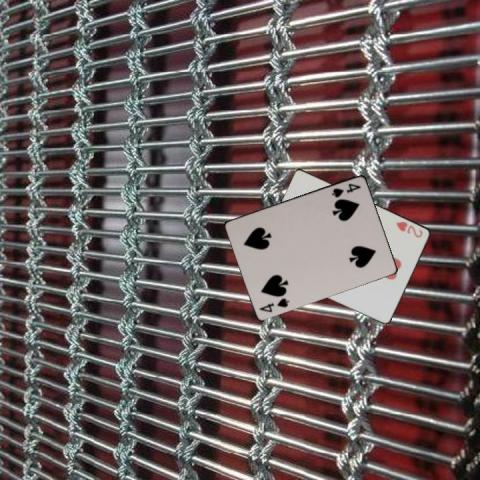2h: (393, 218, 424, 239)
4s: (329, 180, 362, 199), (256, 295, 290, 313)
